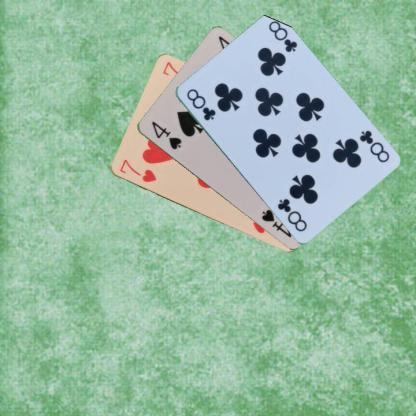4s: (148, 119, 182, 152)
7h: (116, 156, 158, 184)
8c: (356, 127, 390, 164), (183, 86, 217, 122)
